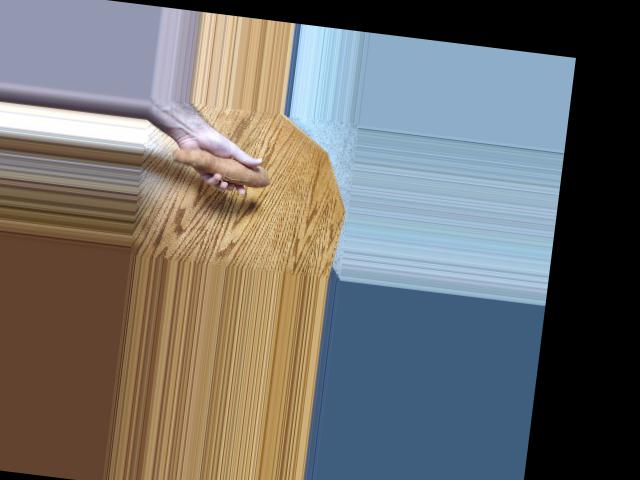sweet_potato: (159, 136, 275, 191)
